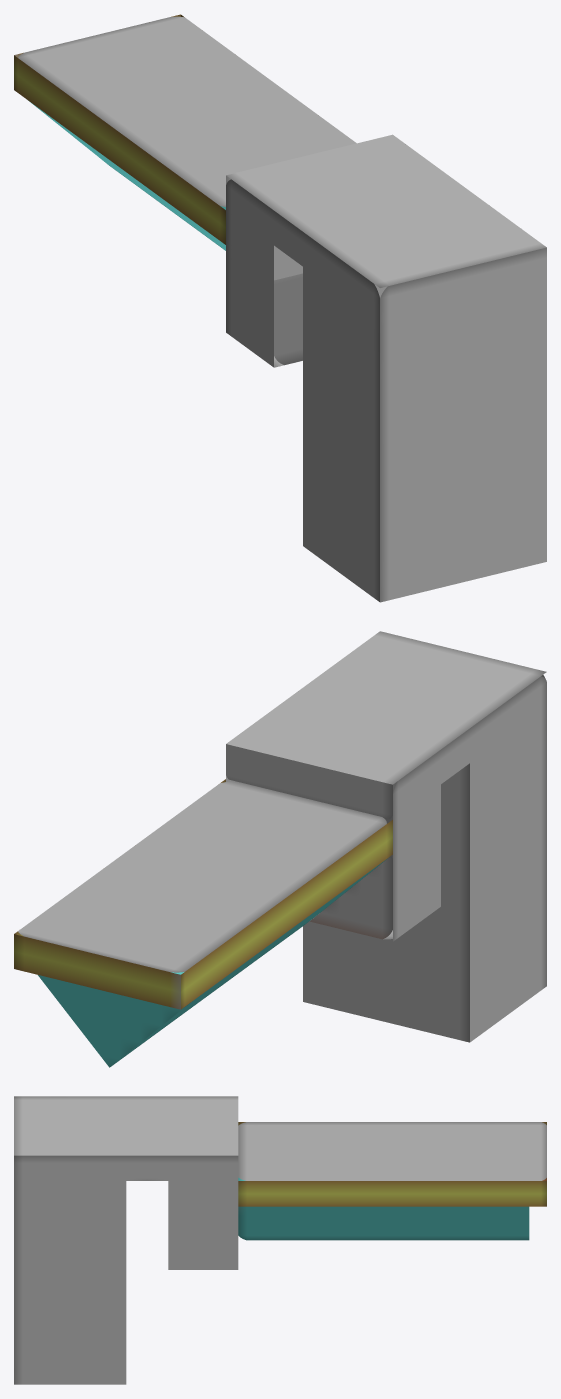
File: lathe2.obj
The picture shows the model from 3 angles, top to bottom: view 1: azimuth 30°, elevation 25°; view 2: azimuth 150°, elevation 25°; view 3: azimuth 270°, elevation 25°; orthographic projection. The views are drawn at different scales.
Parts seen in each view (by area): view 1: lathe; view 2: lathe; view 3: lathe.
Part boxes in pixels (x1,y1,x2,y2): lathe: [14, 14, 546, 602]; lathe: [14, 631, 546, 1067]; lathe: [14, 1096, 546, 1384].
Size of the model in its own units: 0.5 by 0.9 by 1.9.
